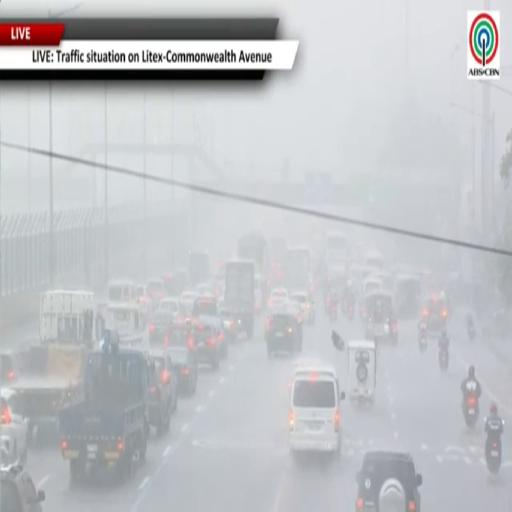car: (289, 364, 345, 457), (357, 452, 422, 511), (149, 349, 178, 436), (0, 388, 28, 462), (0, 466, 44, 511), (265, 310, 302, 357), (365, 292, 398, 343), (168, 347, 198, 395), (191, 323, 220, 370), (198, 316, 228, 358), (423, 295, 448, 333), (148, 311, 173, 345), (165, 322, 194, 349), (292, 292, 315, 325), (192, 295, 218, 317), (146, 278, 165, 308), (0, 352, 16, 386), (135, 285, 152, 317), (180, 291, 199, 316), (268, 287, 288, 309), (158, 297, 179, 317), (197, 283, 214, 295)
motorcycle: (485, 419, 504, 474), (463, 395, 479, 428), (486, 439, 501, 474), (439, 347, 449, 372), (343, 300, 353, 322), (419, 330, 427, 353), (330, 302, 337, 322), (468, 326, 476, 341), (348, 304, 354, 322)
truck: (59, 332, 149, 484), (9, 344, 87, 441), (40, 290, 97, 347), (223, 261, 254, 339), (237, 232, 269, 278), (285, 248, 309, 292), (325, 232, 350, 273), (268, 237, 287, 287), (188, 251, 210, 285)
